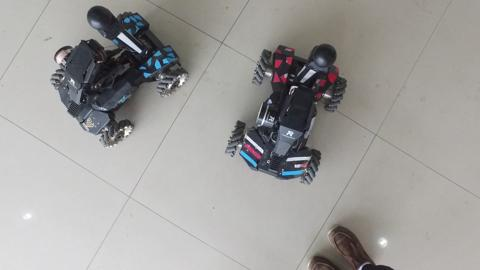chariot: (36, 4, 194, 150), (223, 30, 352, 193)
